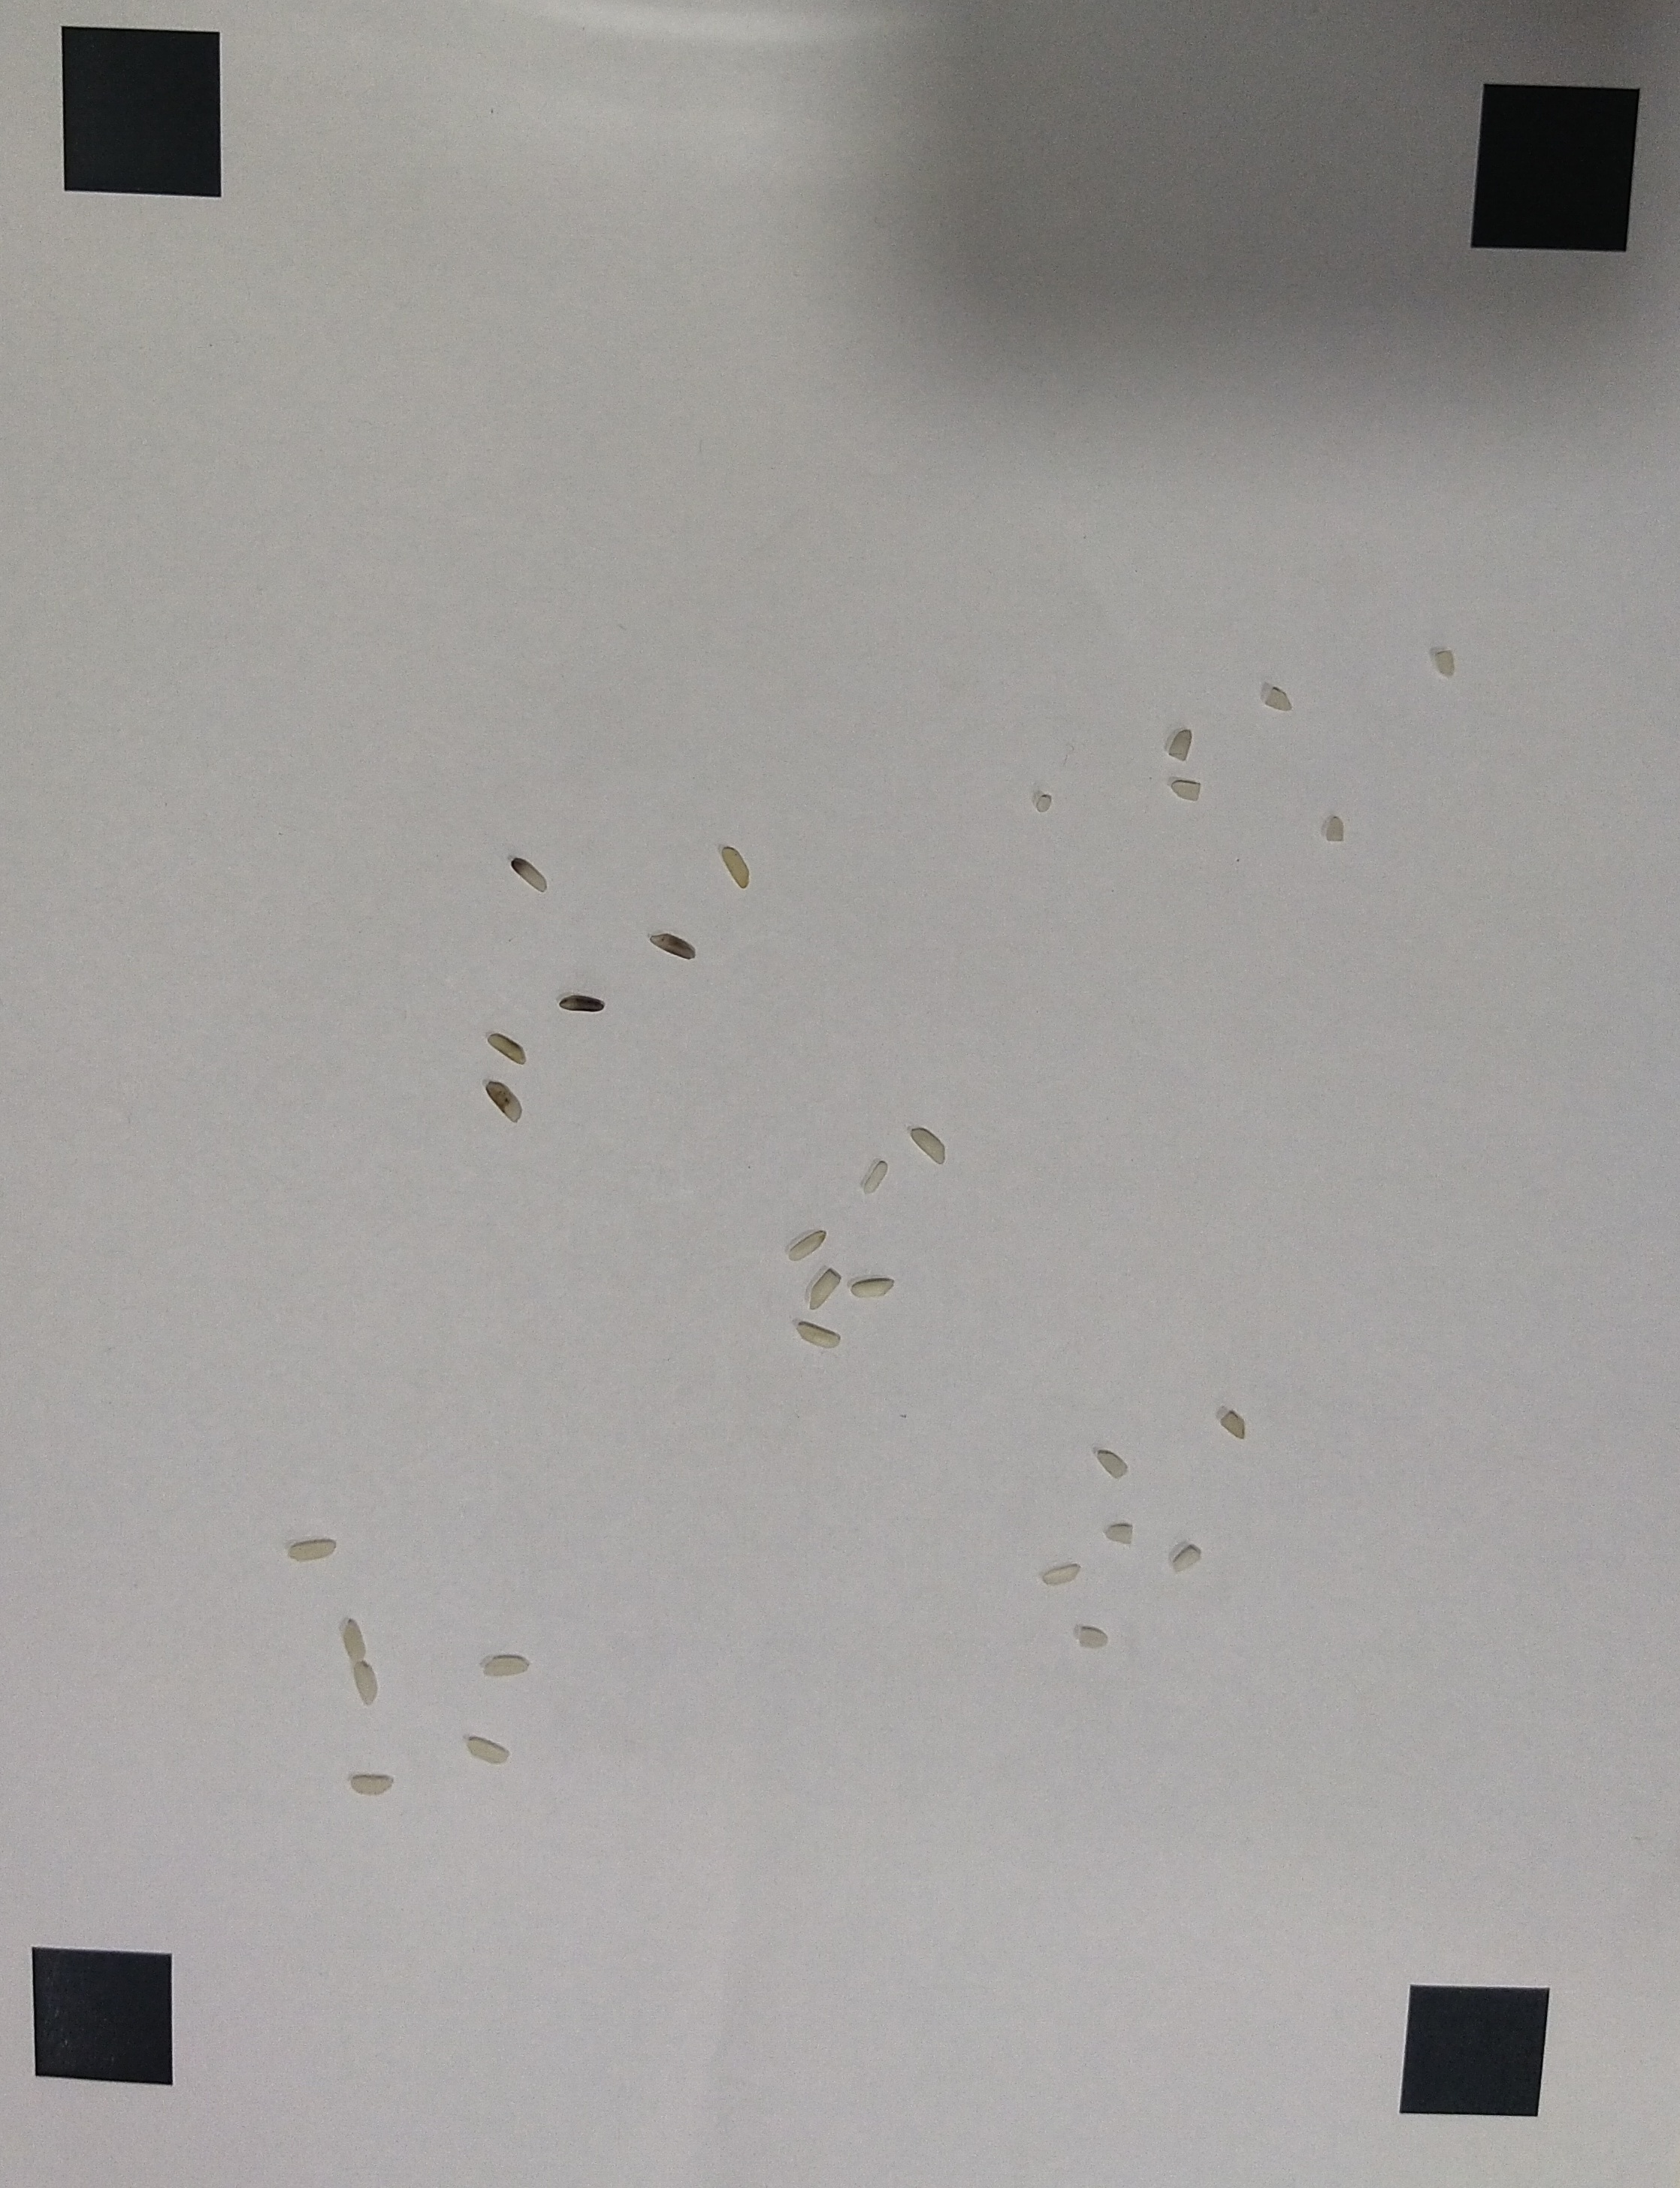broken: (1069, 1623, 1110, 1650), (1098, 1449, 1128, 1479), (1039, 1565, 1082, 1586), (1170, 780, 1204, 805), (1219, 1408, 1246, 1438), (1168, 729, 1193, 761), (1172, 1544, 1200, 1570), (1265, 685, 1292, 713), (1105, 1521, 1133, 1546), (1325, 813, 1343, 845), (1435, 649, 1456, 676), (1036, 794, 1052, 812)
chalky: (911, 1126, 949, 1165), (808, 1269, 840, 1311), (794, 1322, 840, 1348), (789, 1232, 826, 1262), (861, 1159, 888, 1195), (851, 1278, 896, 1297)
discolor: (485, 1078, 522, 1122), (648, 932, 699, 962), (720, 843, 750, 889), (510, 856, 547, 891), (487, 1032, 528, 1064), (559, 993, 607, 1015)
good: (466, 1735, 510, 1765), (342, 1615, 369, 1660), (349, 1773, 395, 1798), (353, 1660, 378, 1705), (480, 1655, 531, 1676), (288, 1540, 339, 1560)
